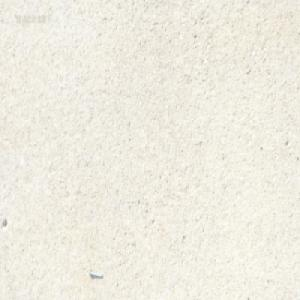Nail: (88, 268, 103, 278)
